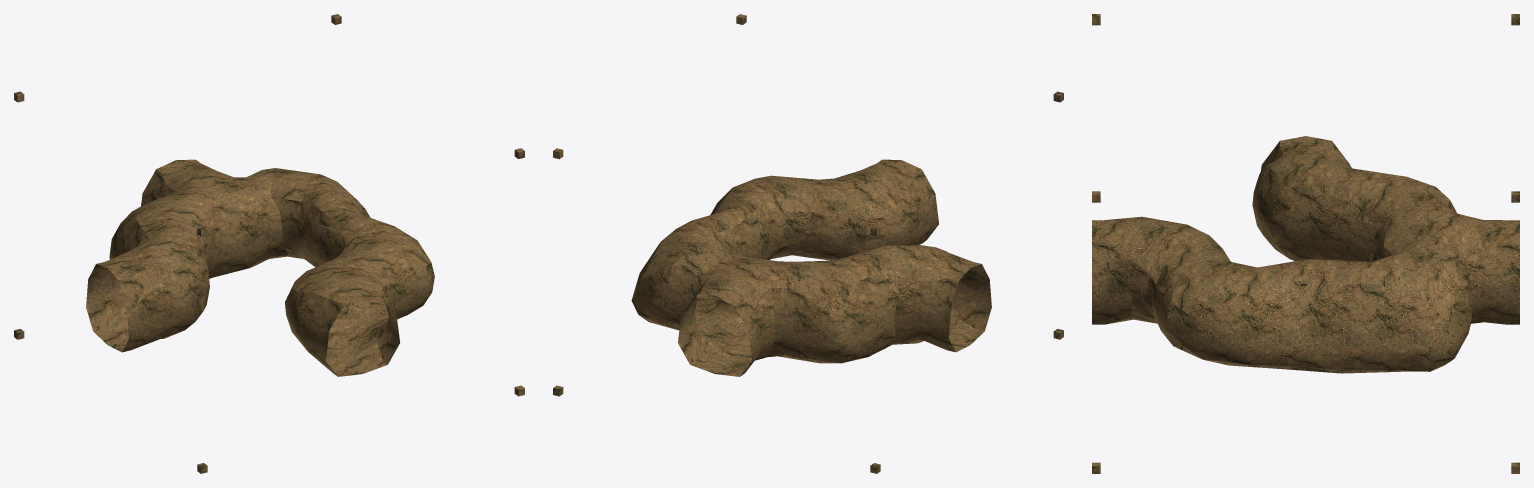
Rendered from lba_3c.glb.
3 renders of one model, left to right at view 1: azimuth 30°, elevation 25°; view 2: azimuth 150°, elevation 25°; view 3: azimuth 270°, elevation 25°, orthographic. The views are drawn at different scales.
Visible parts, largest first — view 1: lba_3c; view 2: lba_3c; view 3: lba_3c.
Boxes of the visible parts, x1,y1,x2,y2 form: lba_3c: (14,14,524,473); lba_3c: (553,14,1063,473); lba_3c: (1092,14,1519,473).
Bounding box in the file's own units: 15 × 10.8 × 15.
1 material, 1 textured.
